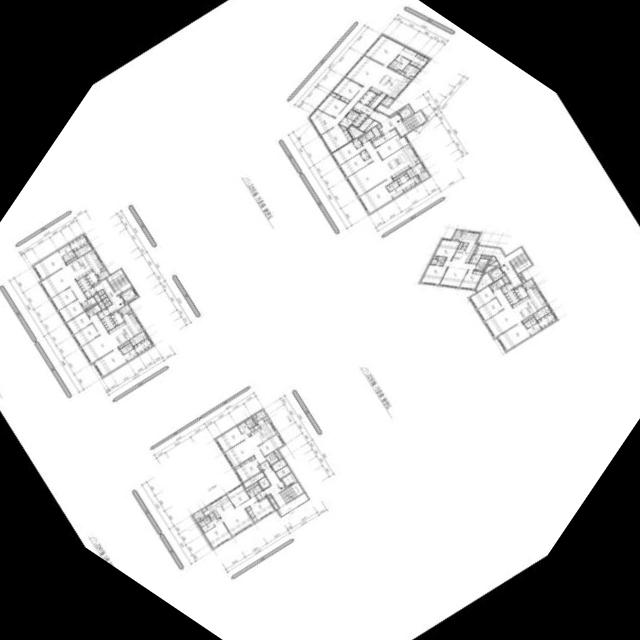background: (0, 0, 640, 640)
space_balconi: (417, 170, 429, 182), (522, 279, 534, 291), (380, 97, 394, 107), (451, 230, 463, 241)
space_bedroom: (364, 35, 405, 67), (359, 177, 393, 214), (497, 322, 530, 352), (320, 125, 353, 154), (94, 348, 127, 377), (33, 251, 66, 280), (215, 427, 251, 452), (375, 134, 409, 160), (331, 142, 365, 166), (204, 519, 231, 549), (339, 154, 372, 178), (317, 92, 347, 118), (332, 78, 362, 104), (233, 456, 260, 483), (246, 498, 274, 523), (58, 299, 84, 323), (477, 298, 503, 321), (469, 286, 495, 309), (73, 324, 99, 347), (50, 288, 76, 311), (66, 312, 91, 335), (434, 239, 460, 261), (258, 434, 283, 456), (420, 265, 447, 285), (226, 485, 249, 508), (459, 270, 483, 290), (352, 138, 362, 149), (360, 150, 369, 161)
space_dressroom: (68, 234, 88, 252), (133, 338, 153, 355), (537, 312, 556, 329), (409, 54, 429, 70), (400, 176, 419, 192), (396, 174, 409, 185)
space_elevator: (119, 288, 137, 305), (397, 105, 413, 121), (488, 266, 504, 281), (280, 473, 296, 488)
space_elevator_hall: (369, 104, 435, 137), (475, 246, 522, 288), (93, 279, 124, 314), (263, 467, 285, 508)
space_front: (371, 129, 397, 148), (352, 102, 373, 116), (351, 113, 368, 128), (359, 91, 376, 106), (76, 276, 91, 293), (101, 315, 116, 331), (500, 282, 513, 295), (97, 308, 109, 320), (84, 288, 96, 299), (469, 255, 481, 265), (258, 461, 269, 471), (255, 491, 265, 502)
space_kitchen: (369, 68, 411, 99), (381, 144, 418, 179), (512, 288, 547, 322), (108, 313, 143, 347), (66, 250, 104, 281), (451, 231, 480, 263), (250, 419, 277, 446), (204, 495, 234, 519), (85, 272, 98, 286), (110, 312, 123, 326)
space_living_room: (309, 56, 387, 135), (347, 141, 391, 197), (484, 288, 520, 339), (80, 314, 116, 364), (40, 266, 87, 304), (221, 496, 257, 536), (224, 436, 266, 468), (439, 261, 476, 288)
space_other: (277, 493, 308, 517), (243, 472, 265, 488), (406, 163, 425, 179), (367, 93, 386, 109), (476, 274, 492, 292), (533, 306, 551, 321), (129, 331, 147, 346), (74, 243, 92, 258), (504, 289, 519, 306), (402, 64, 420, 78), (358, 118, 373, 132), (275, 466, 290, 479), (271, 459, 286, 472), (484, 261, 499, 274), (514, 286, 527, 300), (349, 127, 364, 139), (364, 121, 379, 133), (258, 477, 270, 490), (370, 127, 381, 141), (254, 410, 266, 422), (393, 172, 406, 181), (192, 511, 205, 520), (245, 483, 257, 492), (269, 498, 278, 509), (118, 341, 129, 349), (66, 257, 77, 265), (522, 316, 533, 323), (488, 257, 496, 266), (517, 274, 525, 283), (274, 450, 281, 460), (502, 276, 509, 284), (98, 302, 105, 310), (93, 294, 100, 302), (396, 70, 405, 76), (97, 290, 104, 296), (102, 298, 109, 304), (340, 125, 346, 131), (100, 294, 106, 300), (105, 301, 111, 307), (389, 113, 396, 118), (480, 256, 491, 259), (458, 243, 463, 249), (210, 516, 215, 521), (415, 160, 420, 164), (377, 124, 381, 129), (267, 495, 271, 499), (263, 417, 267, 421), (250, 428, 254, 432), (202, 508, 206, 512), (252, 415, 256, 419), (409, 76, 413, 80), (128, 311, 132, 315), (195, 519, 200, 522), (531, 286, 536, 289), (432, 256, 436, 259)
space_outdoor_room: (119, 305, 131, 316), (97, 270, 109, 281)
space_staircase: (505, 248, 531, 274), (106, 270, 131, 295), (279, 483, 303, 503), (404, 115, 426, 132)
space_toilet: (388, 55, 410, 71), (523, 317, 541, 336), (237, 418, 255, 434), (198, 517, 214, 533), (399, 47, 417, 61), (85, 304, 101, 318), (358, 131, 374, 144), (489, 279, 505, 292), (246, 485, 261, 498), (81, 297, 96, 310), (389, 186, 403, 199), (123, 349, 137, 362), (265, 452, 278, 465), (474, 259, 488, 271), (58, 245, 72, 257), (339, 117, 353, 128), (430, 257, 446, 266), (349, 112, 359, 121), (345, 110, 355, 119), (67, 251, 75, 260), (120, 346, 128, 355), (125, 343, 133, 352), (62, 254, 70, 263), (391, 181, 399, 189), (386, 184, 394, 192)
